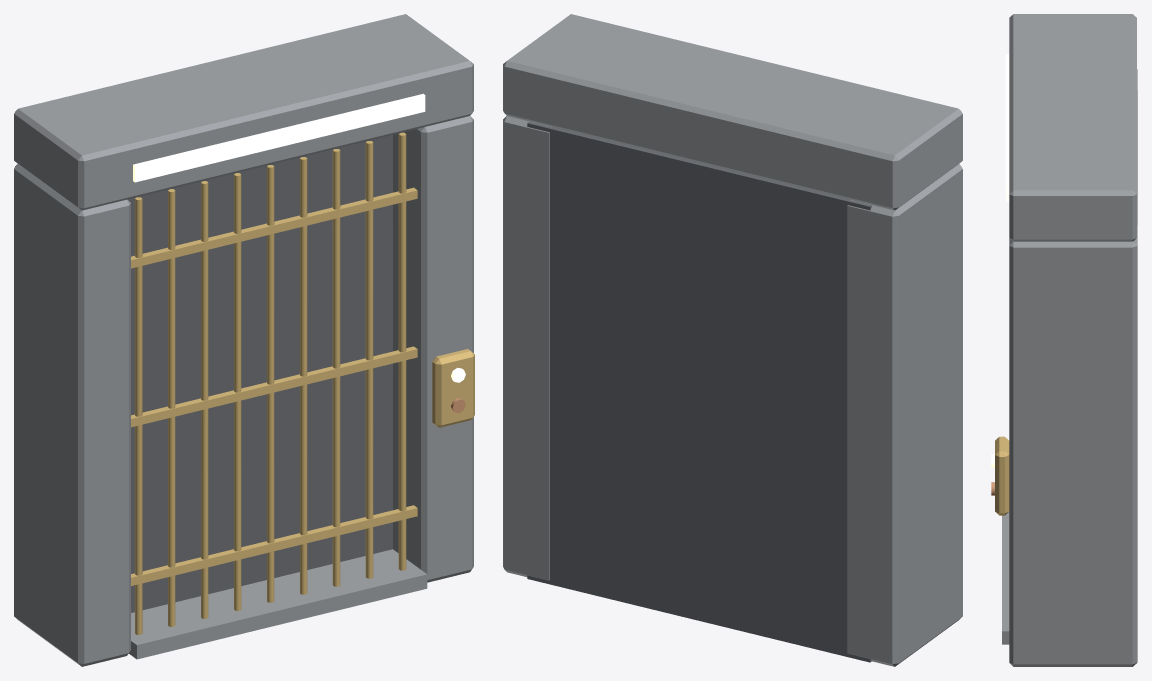
The model's file is hm_lift.glb.
The picture shows the model from 3 angles, left to right: view 1: azimuth 30°, elevation 25°; view 2: azimuth 150°, elevation 25°; view 3: azimuth 270°, elevation 25°; orthographic projection. The views are drawn at different scales.
Visible parts, largest first — view 1: hm_lift; view 2: hm_lift; view 3: hm_lift.
Boxes of the visible parts, left/top/right/bottom form: hm_lift: left=14, top=14, right=474, bottom=666; hm_lift: left=503, top=14, right=962, bottom=666; hm_lift: left=991, top=14, right=1137, bottom=666.
Size of the model in its own units: 3 by 3.7 by 1.03.
